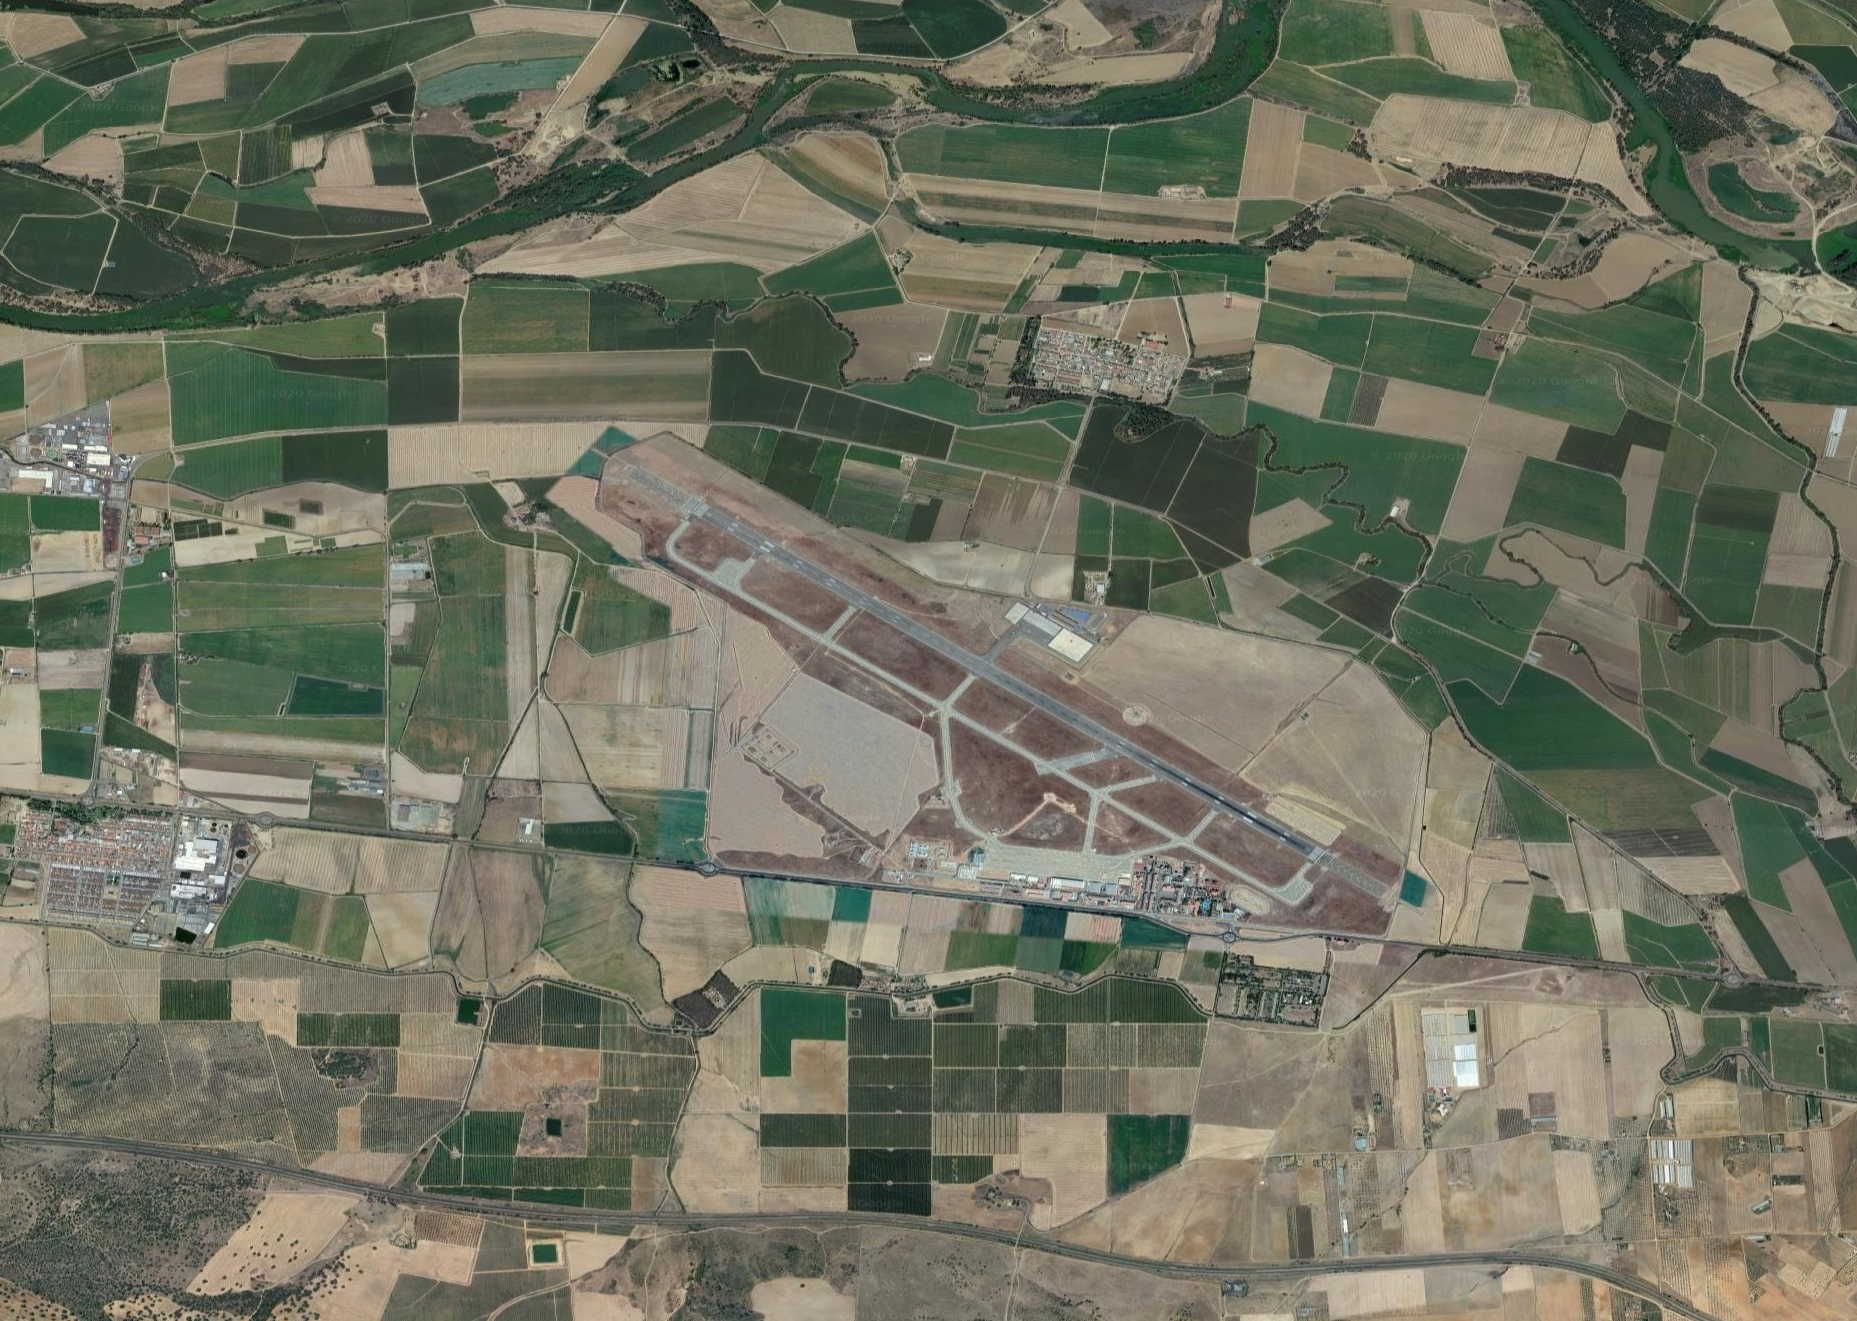airport: (623, 460, 1392, 904)
industrial: (9, 403, 140, 515)
motorway: (1367, 1221, 1708, 1321), (345, 1158, 685, 1245), (689, 1174, 1029, 1261), (1, 1109, 340, 1197), (1028, 1217, 1368, 1302)
